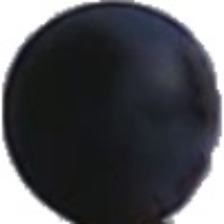grapes: (19, 26, 201, 172)
